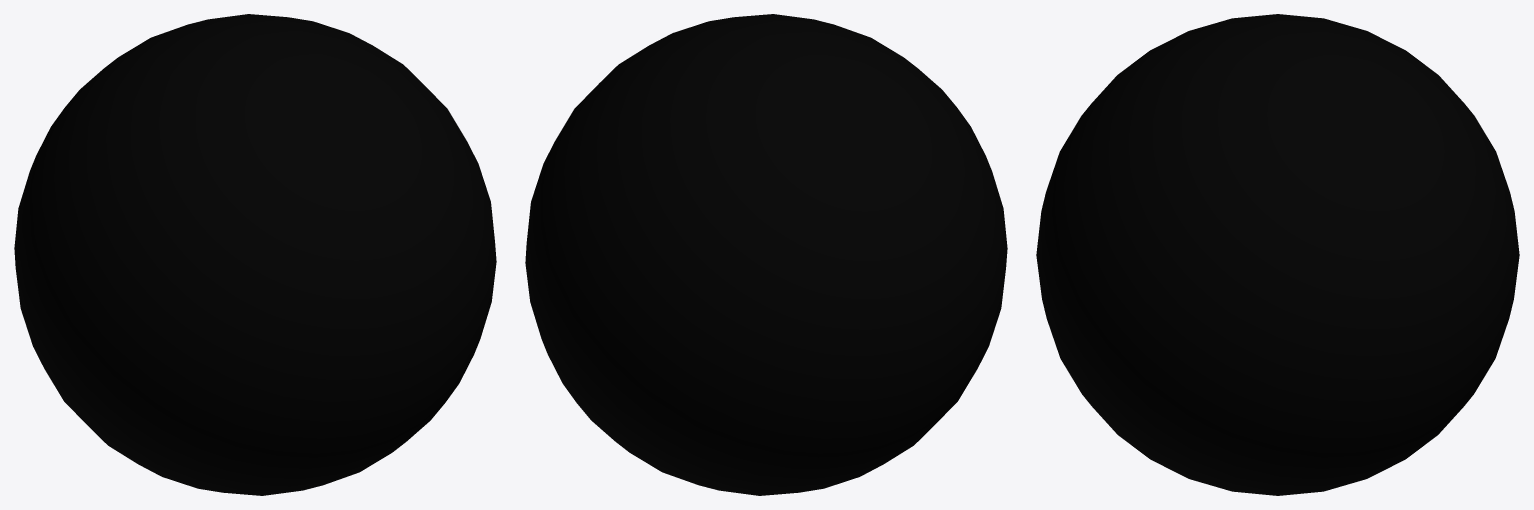
File: Bone_Sphere.fbx
The picture shows the model from 3 angles, left to right: view 1: azimuth 30°, elevation 25°; view 2: azimuth 150°, elevation 25°; view 3: azimuth 270°, elevation 25°; orthographic projection.
Parts seen in each view (by area): view 1: Bone_Sphere; view 2: Bone_Sphere; view 3: Bone_Sphere.
Boxes of the visible parts, <box> form: Bone_Sphere: <box>14,14,496,495</box>; Bone_Sphere: <box>525,14,1007,495</box>; Bone_Sphere: <box>1036,14,1519,495</box>.
Size of the model in its own units: 5 by 5 by 5.
